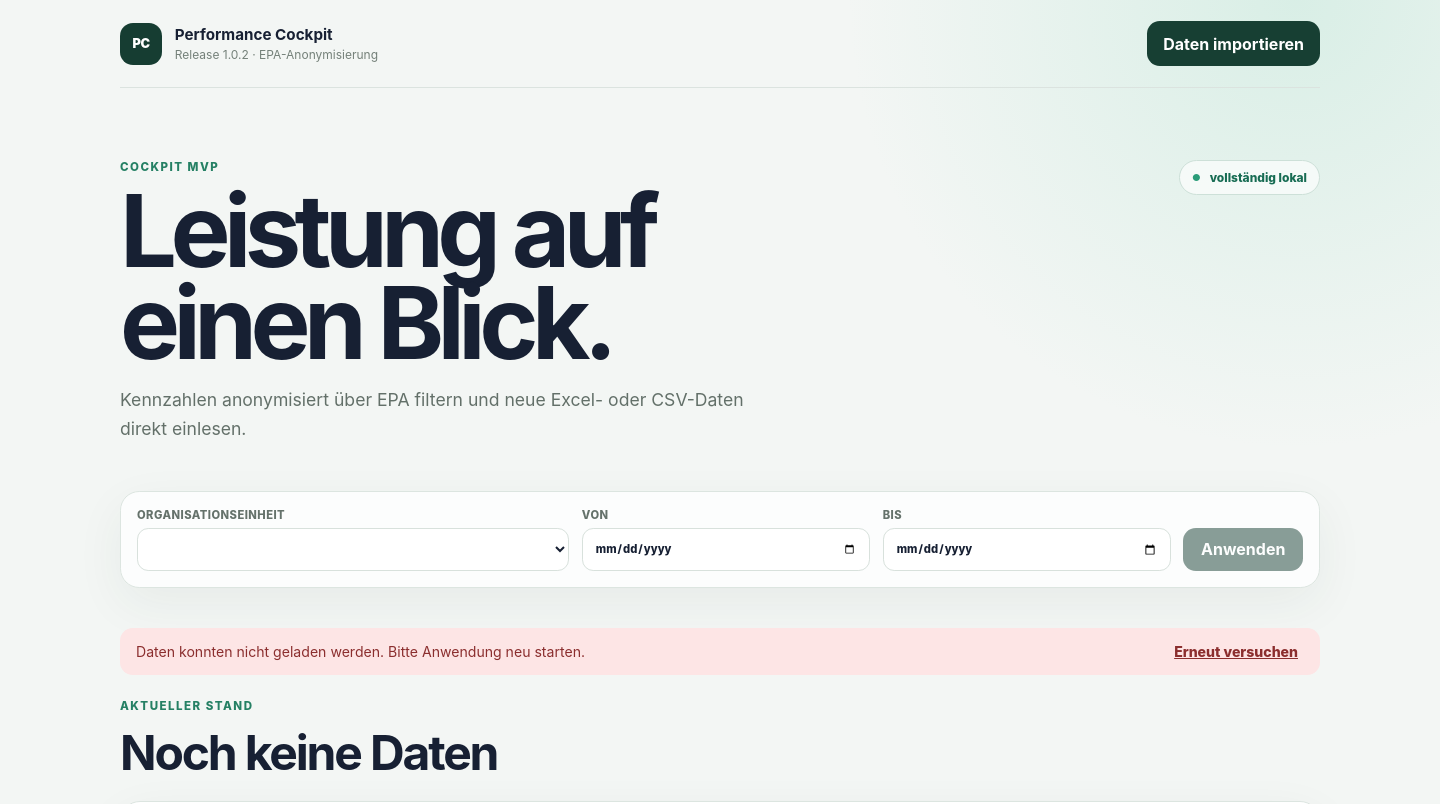
Test: App › shows loading failures and offers a retry
The width and height of the screenshot is (1440, 804).
Expected: the text "Daten konnten nicht geladen werden. Bitte Anwendung neu starten." is shown, [136,643,585,660]
Click the button "Erneut versuchen": [1236, 652] box [1168,642,1304,661]
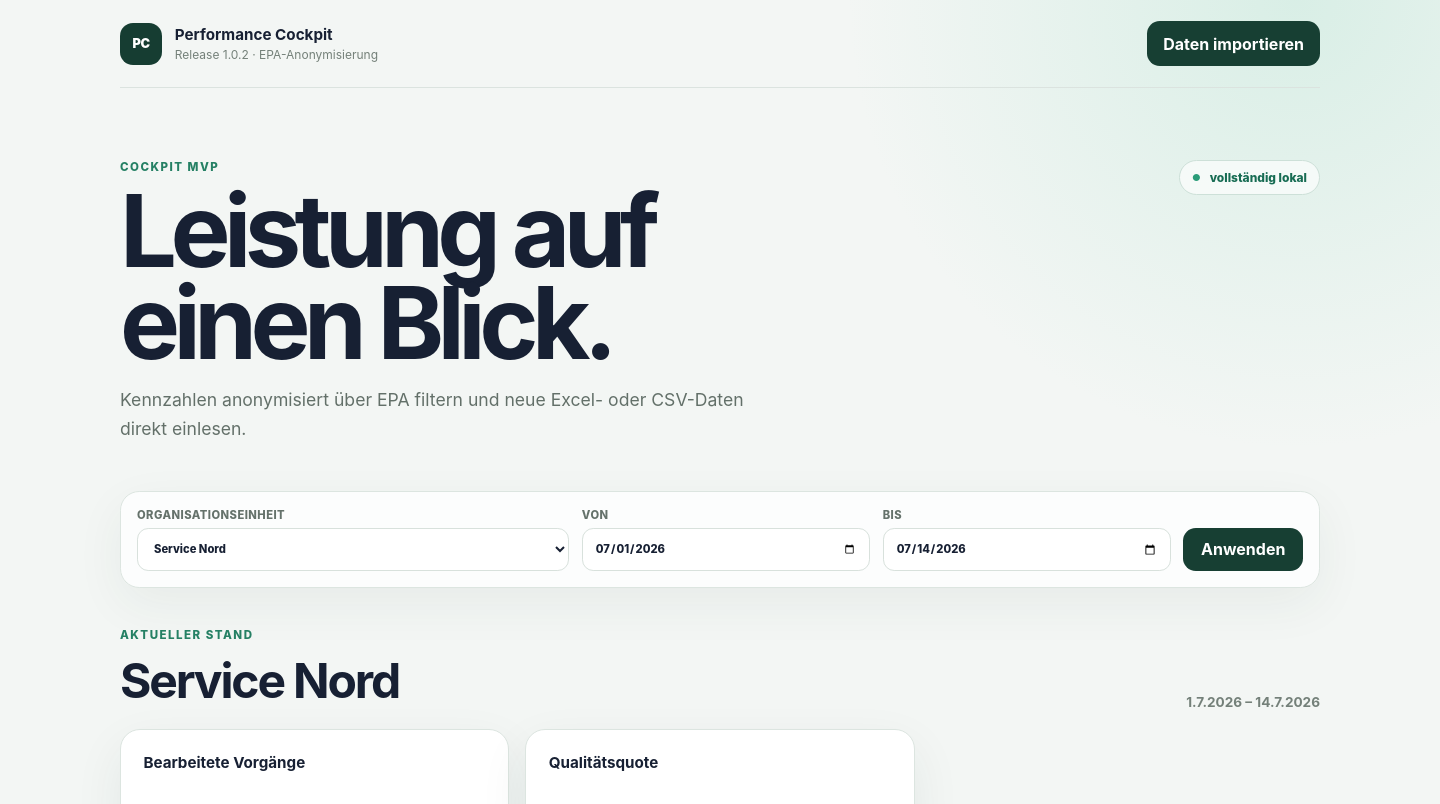
Expected: the heading "Bearbeitete Vorgänge" is shown, [143,753,305,772]
